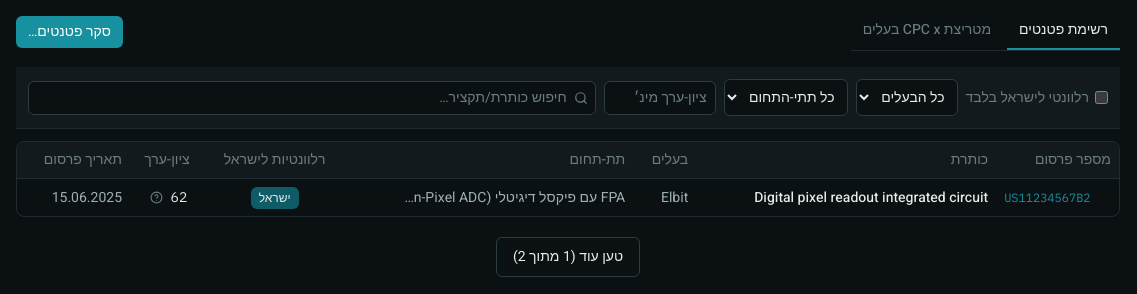
Test: PatentsPage › a load-more click fetches page 2 and appends its rows
expect the text "Digital pixel readout integrated circuit" is shown: met, box [696,178,996,216]
Click the button "טען עוד (1 מתוך 2)" at (568, 257), box [496,237,640,277]
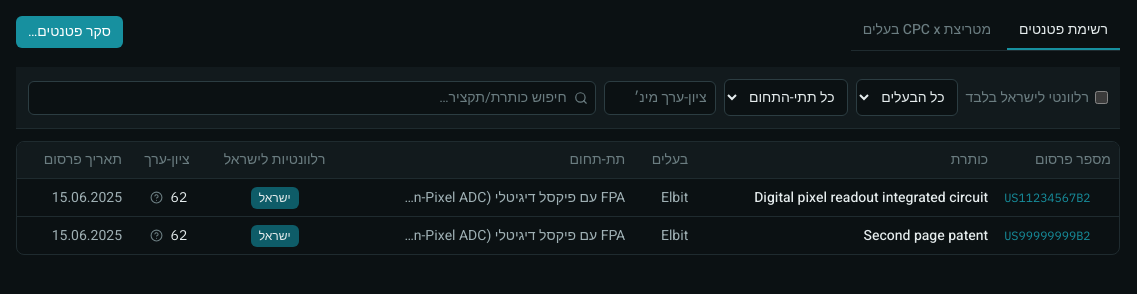
expect the text "Digital pixel readout integrated circuit" is shown: met, box [696,178,996,216]
expect the text "Second page patent" is shown: met, box [696,216,996,254]
